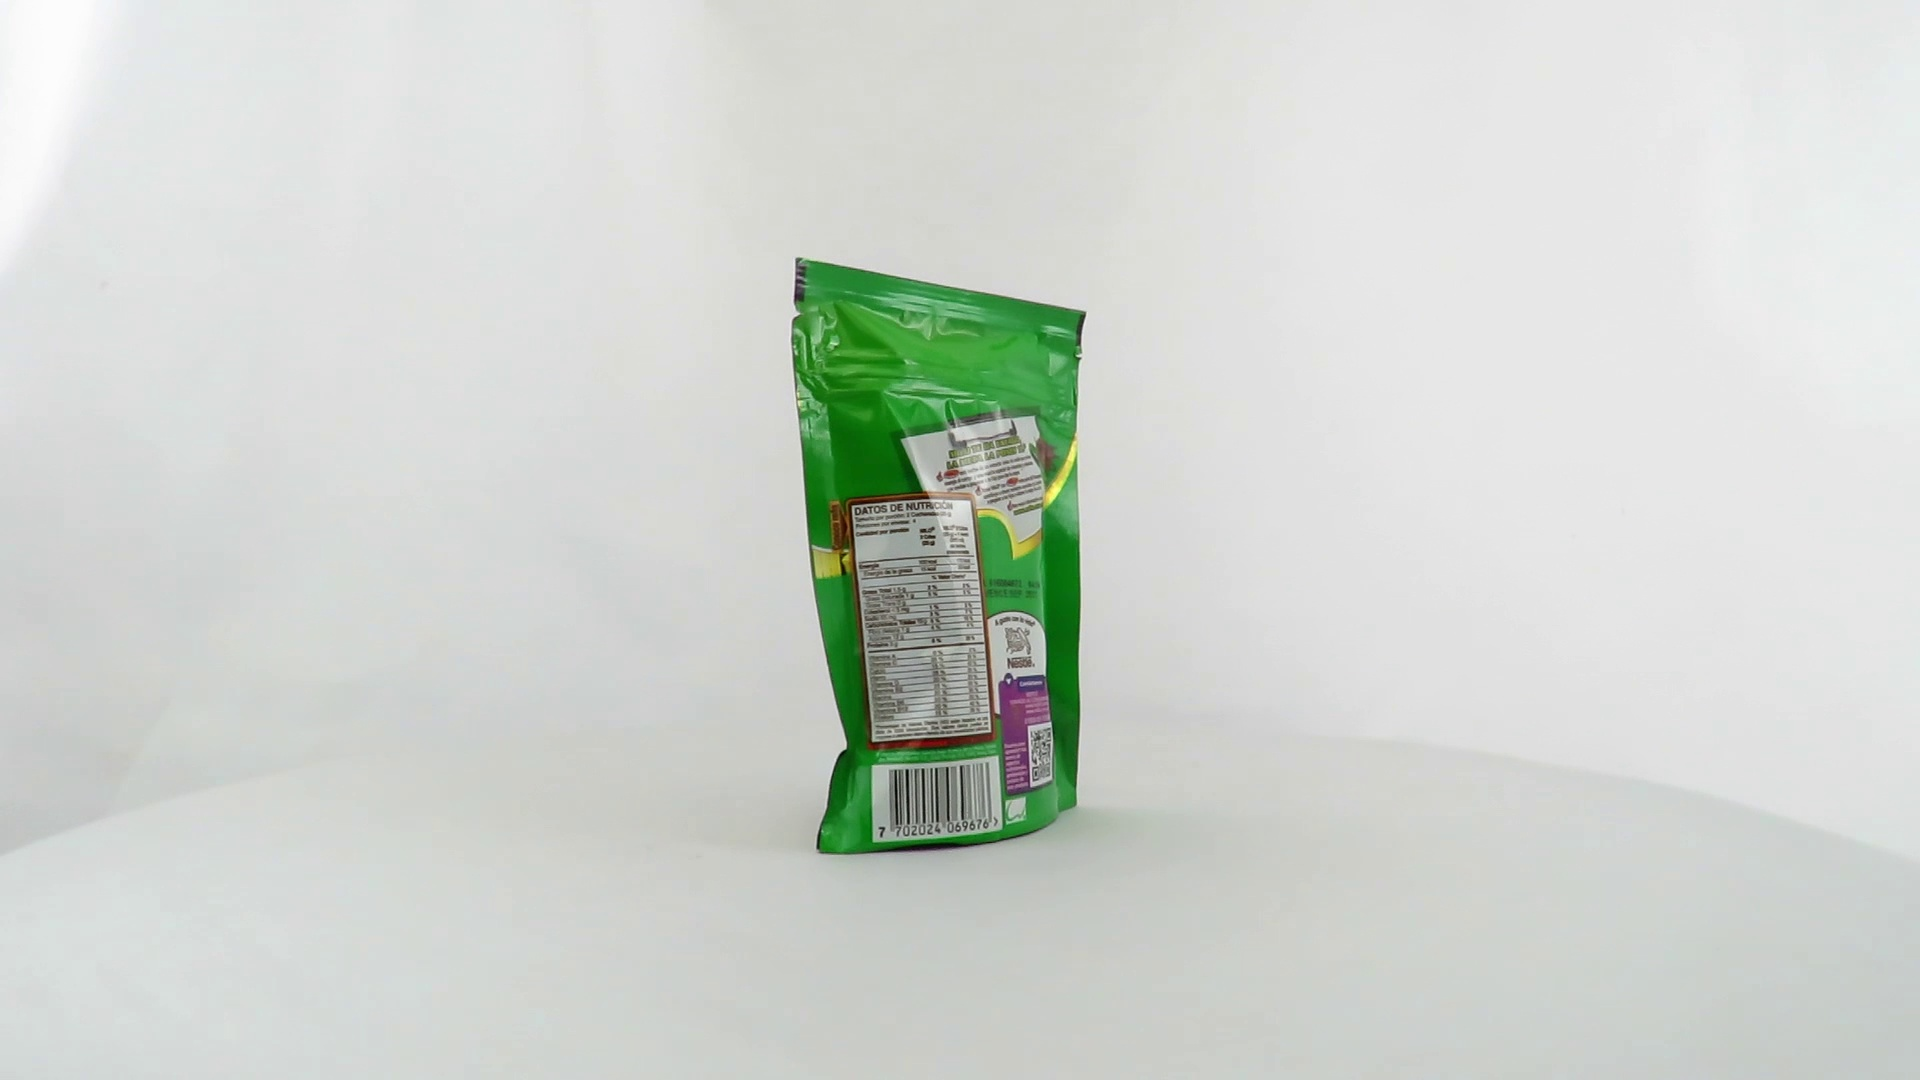COL0170203DYP10000: (786, 252, 1093, 861)
